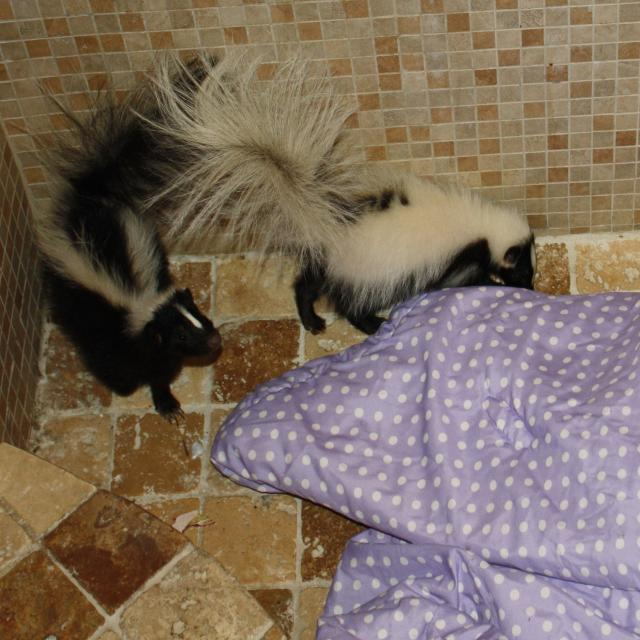Skunk: (2, 30, 296, 412)
